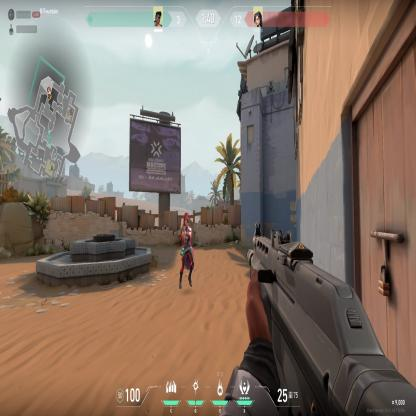enemy: (176, 210, 195, 290)
